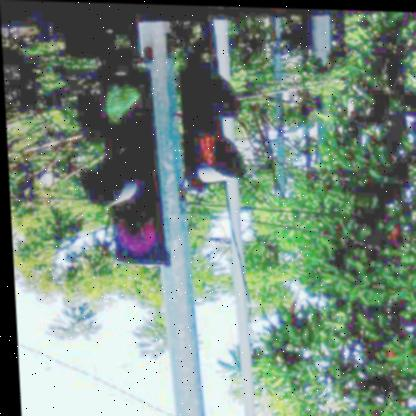Traffic Light -Green-: (68, 61, 172, 268)
